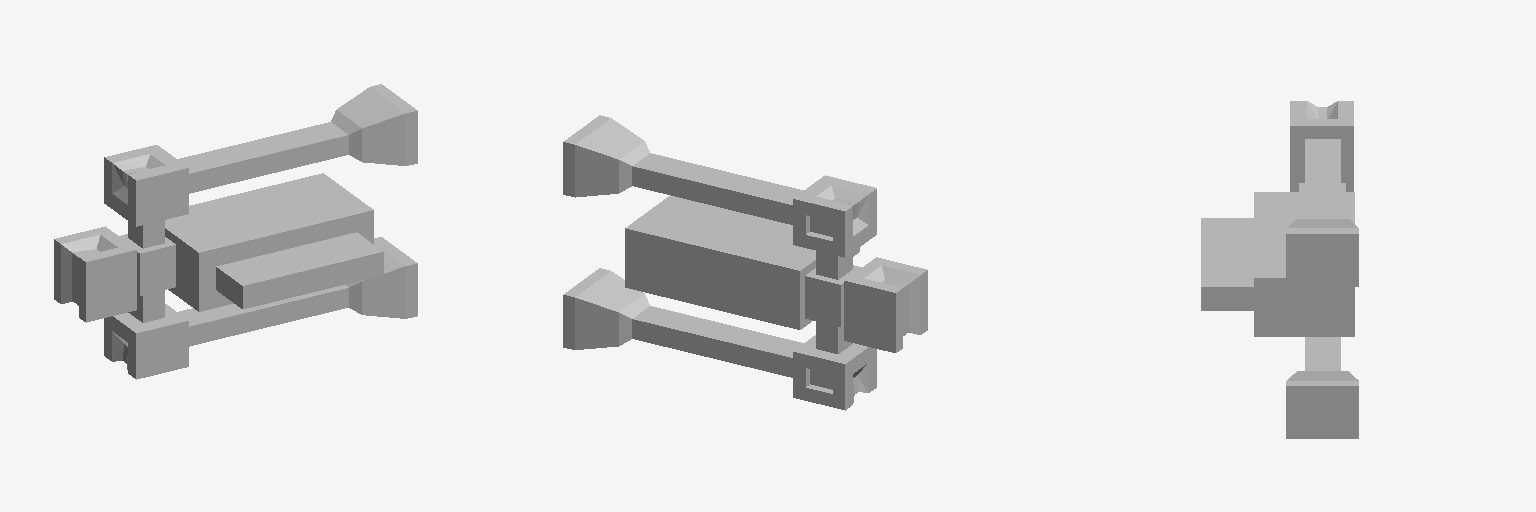
The model's file is Ship.obj.
3 renders of one model, left to right at view 1: azimuth 30°, elevation 25°; view 2: azimuth 150°, elevation 25°; view 3: azimuth 270°, elevation 25°, orthographic.
Visible parts, largest first — view 1: Cube; view 2: Cube; view 3: Cube.
Part boxes in pixels (left/top/right/bottom): Cube: left=54, top=84, right=417, bottom=379; Cube: left=563, top=115, right=927, bottom=410; Cube: left=1201, top=101, right=1358, bottom=438.
Size of the model in its own units: 19.09 by 11.37 by 7.93.